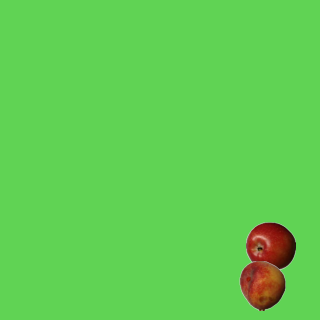Apple Braeburn: (245, 221, 295, 271)
Peach: (237, 260, 287, 310)
